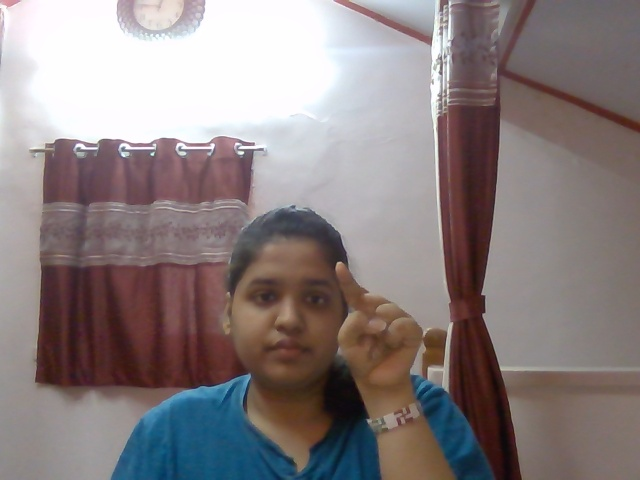z: (331, 255, 427, 397)
